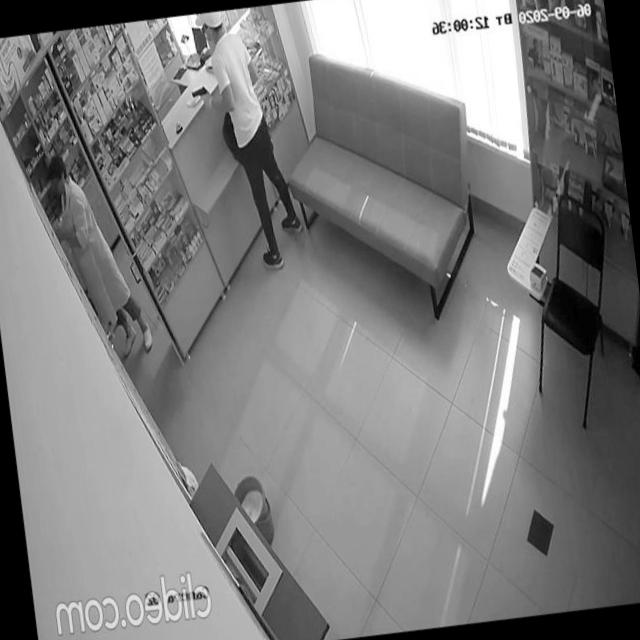gun: (190, 82, 208, 100)
person: (42, 143, 156, 368)
person with a gun: (179, 3, 309, 280)
